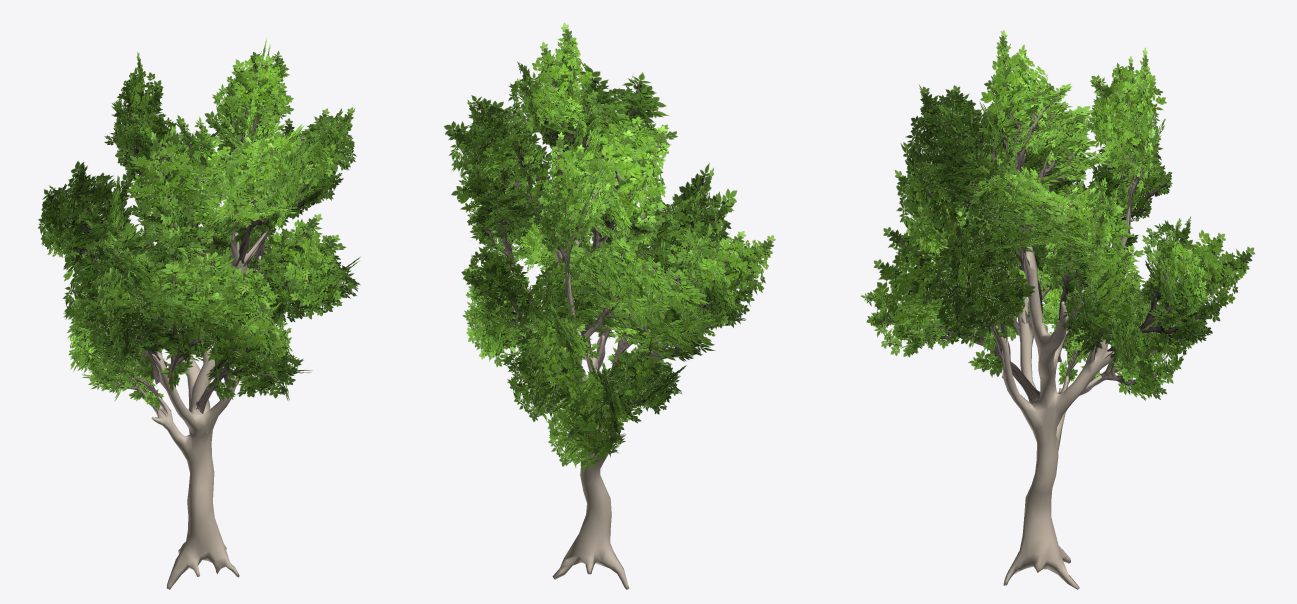
The model's file is highDraco.glb.
3 renders of one model, left to right at view 1: azimuth 30°, elevation 25°; view 2: azimuth 150°, elevation 25°; view 3: azimuth 270°, elevation 25°, orthographic. The views are drawn at different scales.
Visible parts, largest first — view 1: Arbol02fbxPlane006_1, Arbol02fbxPlane006_2; view 2: Arbol02fbxPlane006_1, Arbol02fbxPlane006_2; view 3: Arbol02fbxPlane006_1, Arbol02fbxPlane006_2.
Part boxes in pixels (left/top/right/bottom): Arbol02fbxPlane006_1: left=38, top=38, right=360, bottom=416; Arbol02fbxPlane006_2: left=139, top=187, right=268, bottom=589; Arbol02fbxPlane006_1: left=444, top=22, right=775, bottom=472; Arbol02fbxPlane006_2: left=511, top=193, right=666, bottom=589; Arbol02fbxPlane006_1: left=860, top=30, right=1254, bottom=403; Arbol02fbxPlane006_2: left=991, top=184, right=1129, bottom=589.
Bounding box in the file's own units: 20.51 × 32.14 × 22.21.
2 materials, 1 textured.
